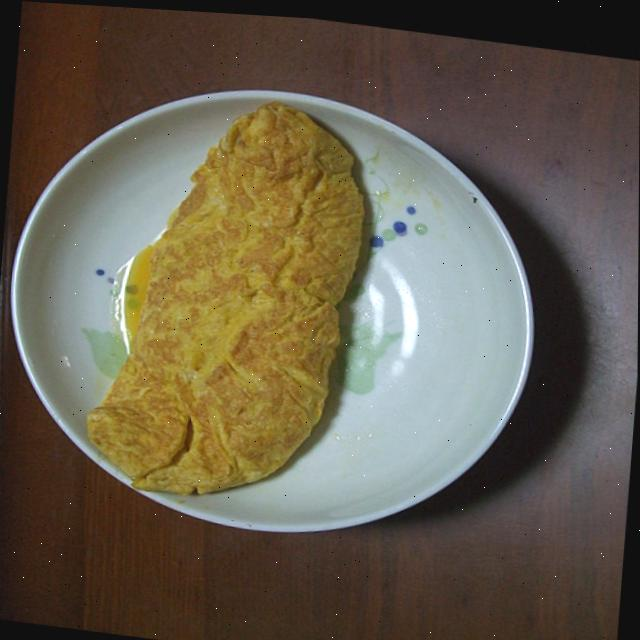鸡蛋料理: (57, 27, 397, 548)
